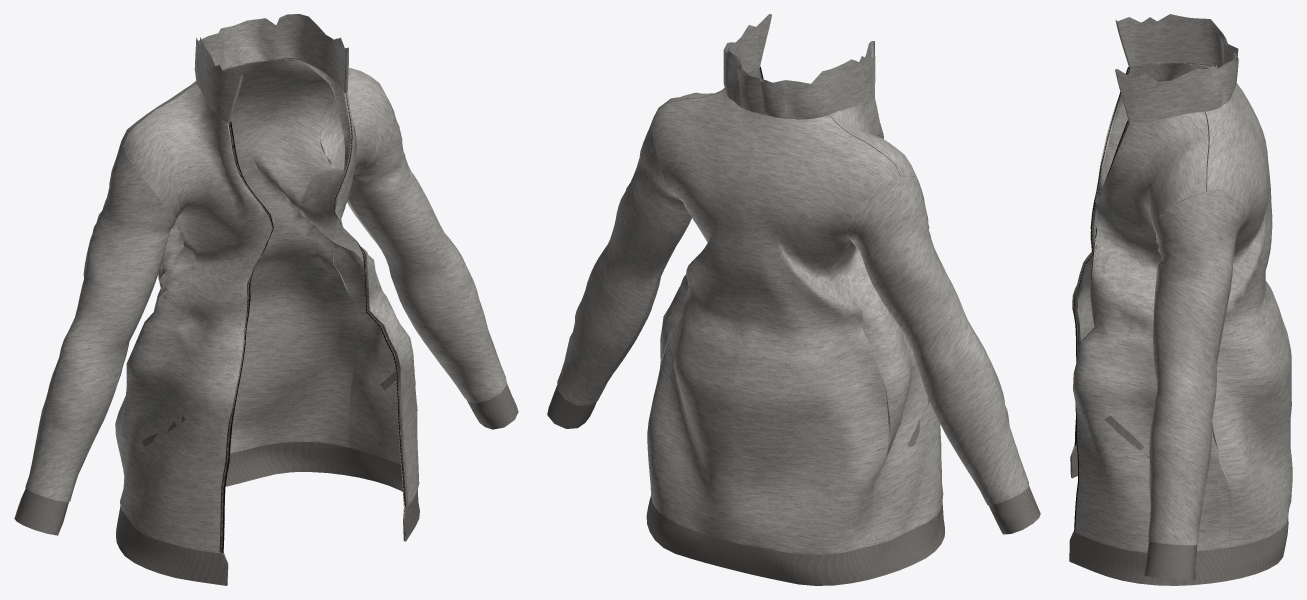
Rendered from hoodie.glb.
3 renders of one model, left to right at view 1: azimuth 30°, elevation 25°; view 2: azimuth 150°, elevation 25°; view 3: azimuth 270°, elevation 25°, orthographic. The views are drawn at different scales.
Parts seen in each view (by area): view 1: hoodie; view 2: hoodie; view 3: hoodie.
Part boxes in pixels (x1,y1,x2,y2): hoodie: [14, 14, 518, 585]; hoodie: [547, 14, 1040, 585]; hoodie: [1069, 14, 1292, 585].
Size of the model in its own units: 0.8808 by 0.8414 by 0.3515.
Materials: 3 (3 with a texture image).
